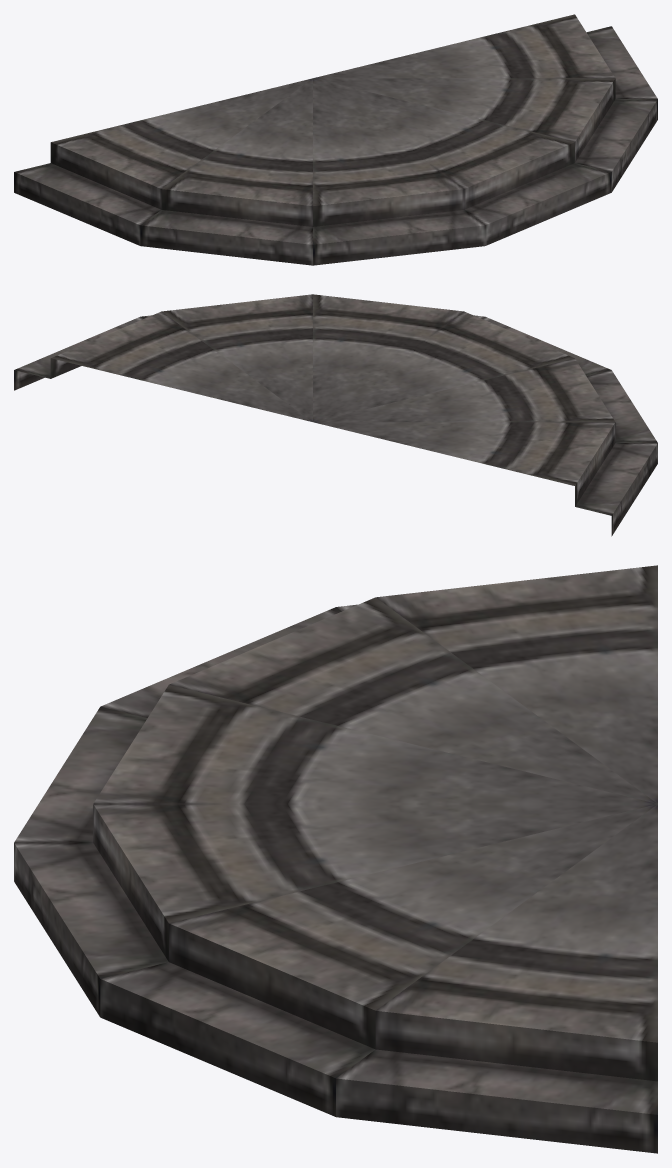
The picture shows the model from 3 angles, top to bottom: view 1: azimuth 30°, elevation 25°; view 2: azimuth 150°, elevation 25°; view 3: azimuth 270°, elevation 25°; orthographic projection. The views are drawn at different scales.
Visible parts, largest first — view 1: object03; view 2: object03; view 3: object03.
Boxes of the visible parts, bbox=[...] form: object03: bbox=[14, 14, 657, 265]; object03: bbox=[14, 294, 657, 536]; object03: bbox=[14, 565, 657, 1153].
Size of the model in its own units: 335 by 22.25 by 168.
Materials: 1 (1 with a texture image).
